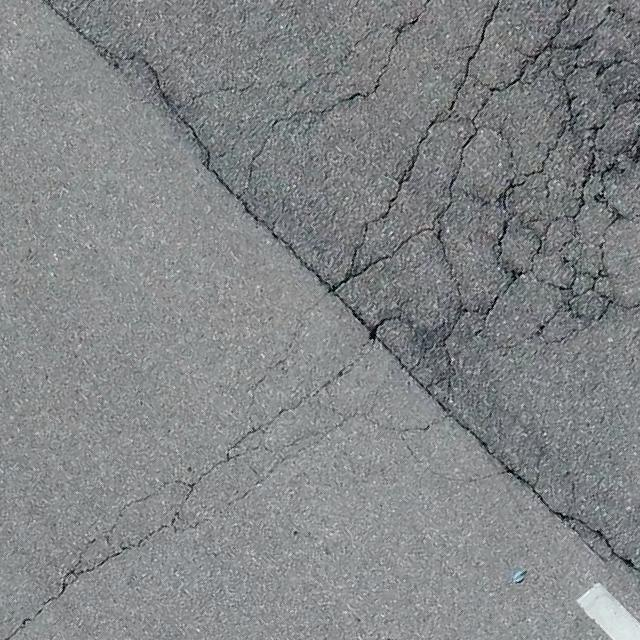GRIETA: (144, 60, 639, 576), (42, 0, 120, 69), (3, 597, 56, 639)
PIEL DE COCODRILO: (177, 0, 639, 390), (51, 292, 508, 603)
